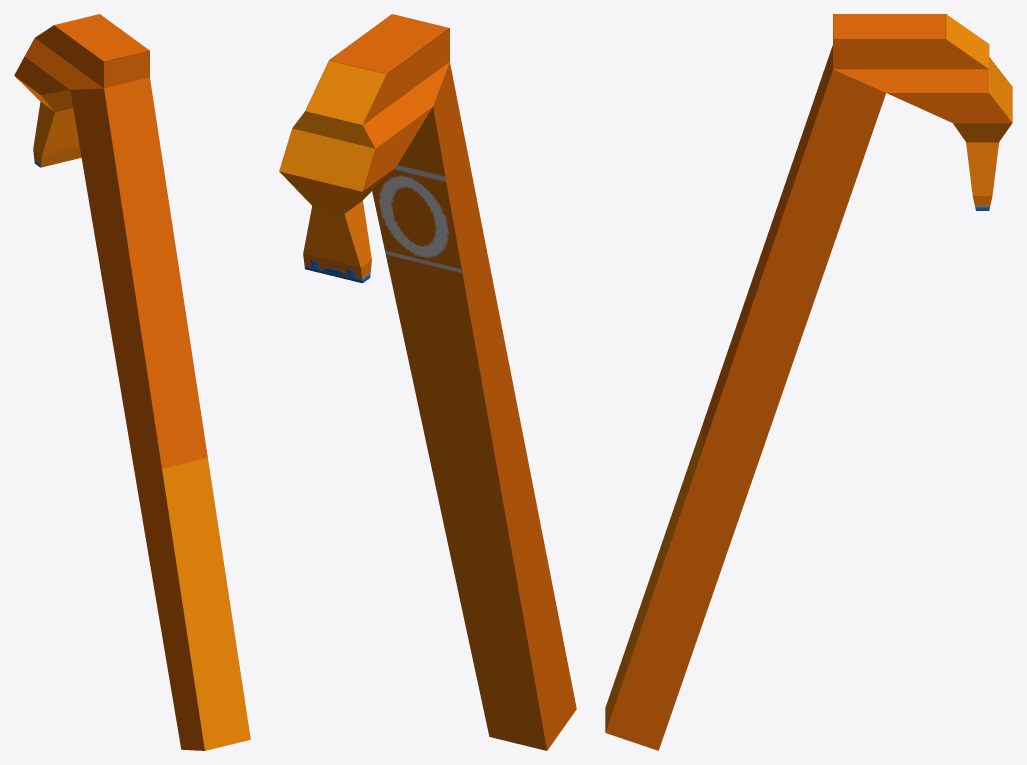
File: Pillar.fbx
The picture shows the model from 3 angles, left to right: view 1: azimuth 30°, elevation 25°; view 2: azimuth 150°, elevation 25°; view 3: azimuth 270°, elevation 25°; orthographic projection. The views are drawn at different scales.
Parts seen in each view (by area): view 1: cuboid; view 2: cuboid; view 3: cuboid.
Part boxes in pixels (x1,y1,x2,y2): cuboid: (14,14,250,750); cuboid: (279,14,576,750); cuboid: (605,14,1012,750).
Size of the model in its own units: 16.25 by 148 by 76.57.
Materials: 1 (1 with a texture image).
